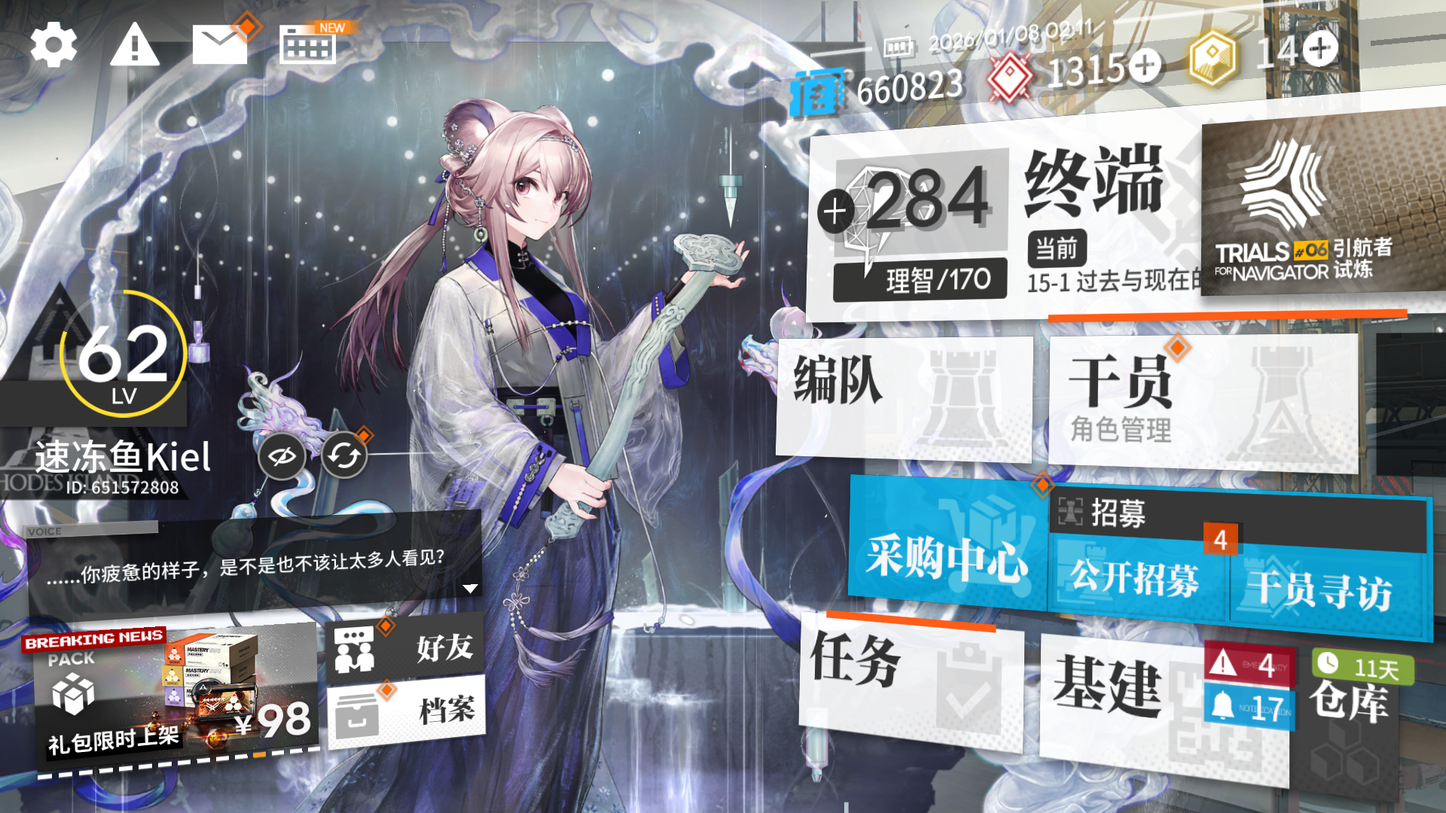home_button: (1007, 136, 1176, 230)
infrastructure_button: (1045, 642, 1252, 767)
